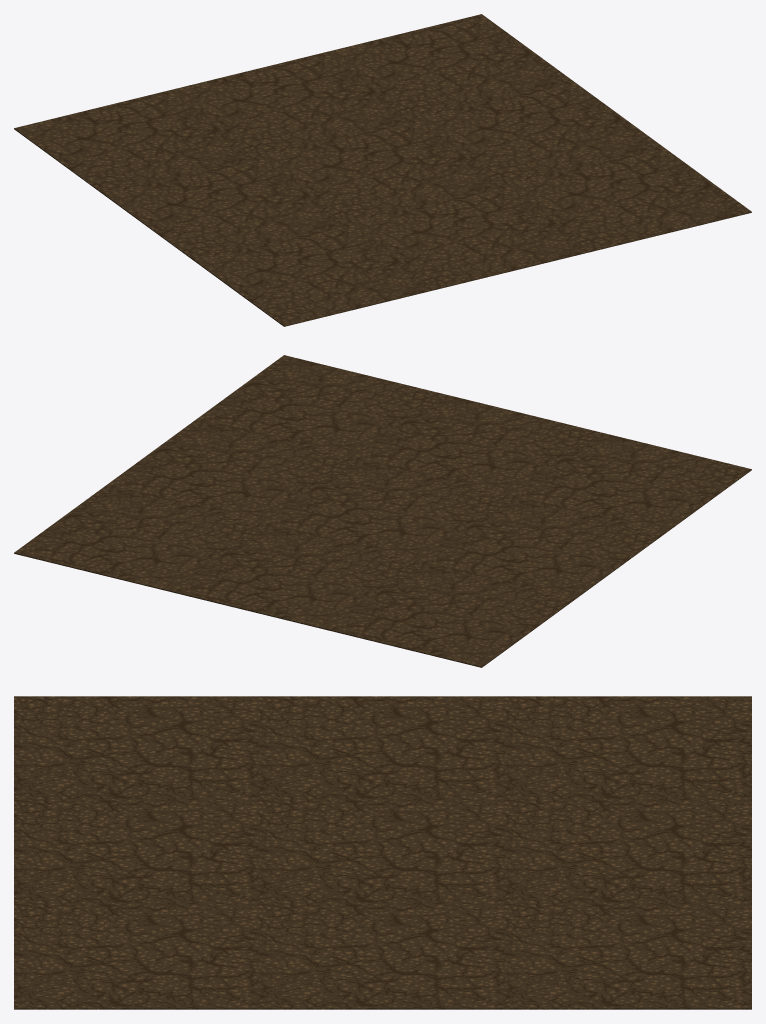
The model's file is _PetalMeadow_environment.fbx.
3 views of the same model, one above another, from view 1: azimuth 30°, elevation 25°; view 2: azimuth 150°, elevation 25°; view 3: azimuth 270°, elevation 25° (orthographic). The views are drawn at different scales.
Parts seen in each view (by area): view 1: land; view 2: land; view 3: land.
Part boxes in pixels (box(x1,y1,x2,y2)): land: box(14, 14, 751, 326); land: box(14, 355, 751, 667); land: box(14, 696, 751, 1009).
Size of the model in its own units: 15 by 0.0299 by 15.
1 material, 1 textured.
